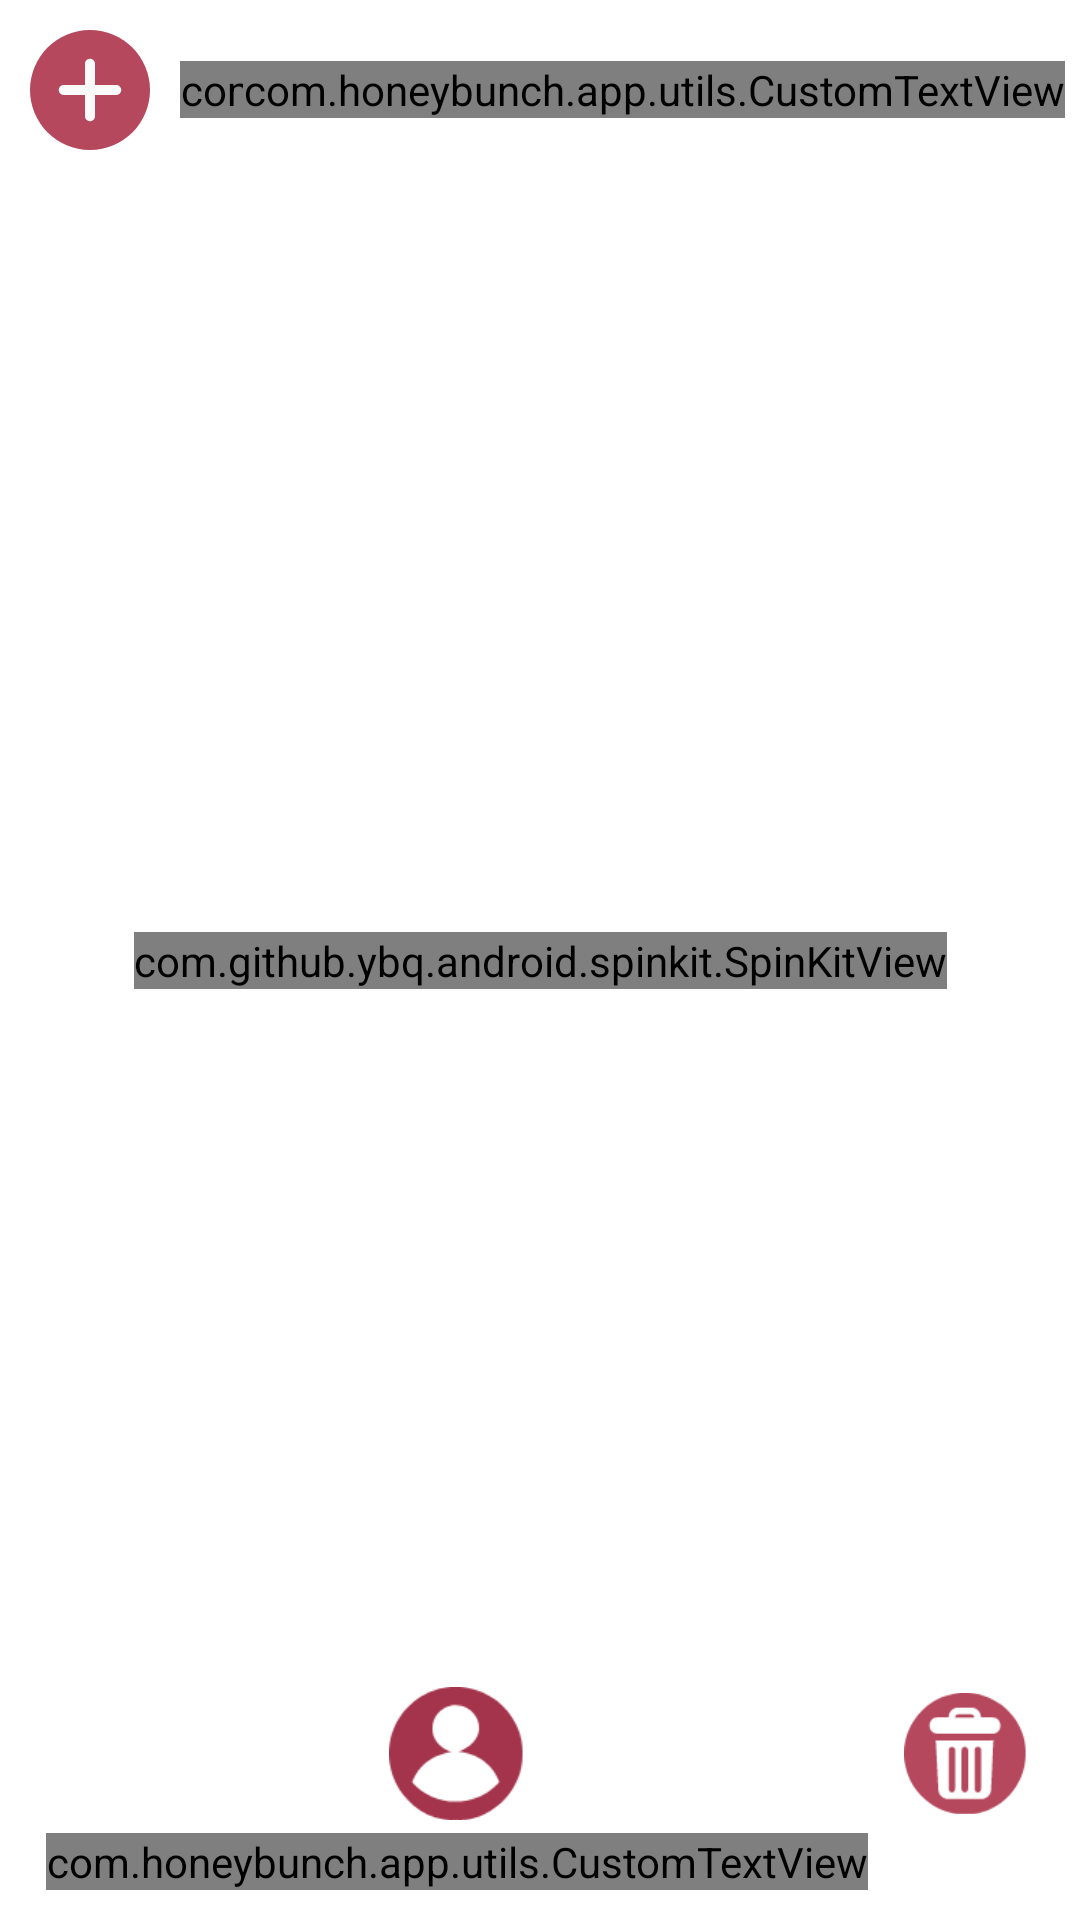

Named icons in this screenshot (1080w x 1920h) and their centers, (x=x, y=y):
delete: (x=965, y=1753)
plus: (x=90, y=90)
user: (x=456, y=1753)
